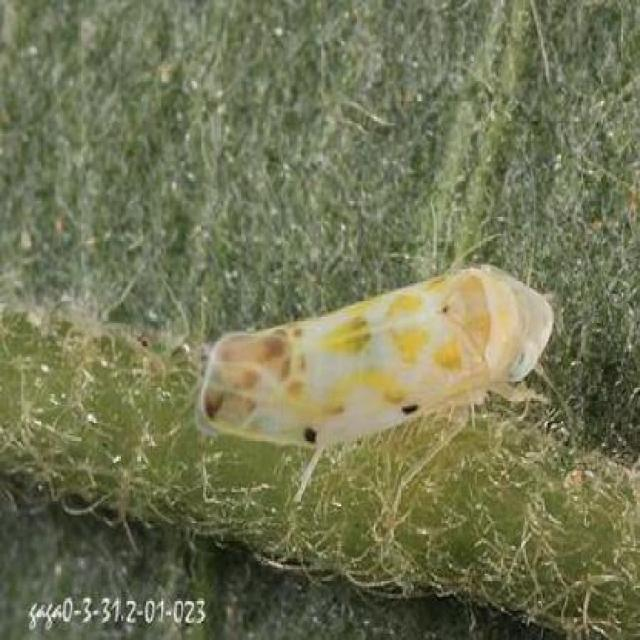green-leafhopper: (196, 268, 546, 464)
